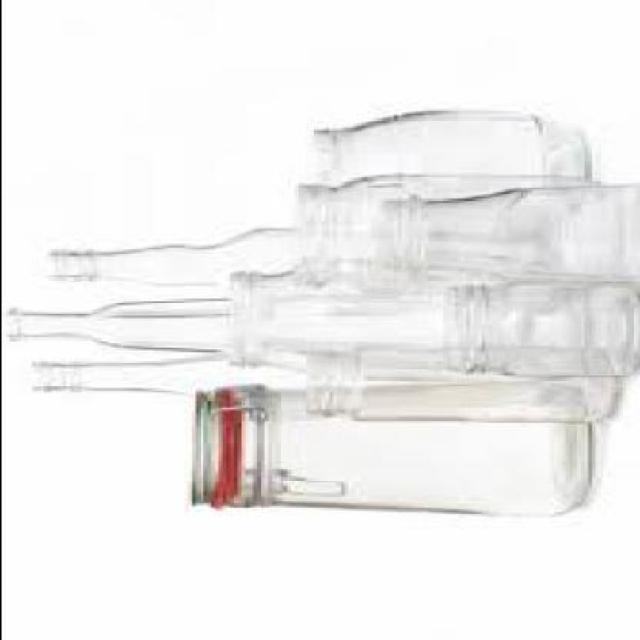GLASS: (190, 382, 587, 512), (290, 172, 598, 292), (378, 183, 636, 282), (300, 343, 618, 420), (225, 269, 446, 373), (442, 278, 636, 378), (308, 106, 548, 177), (38, 226, 290, 286), (4, 297, 225, 349), (26, 356, 305, 395), (538, 128, 590, 190)
